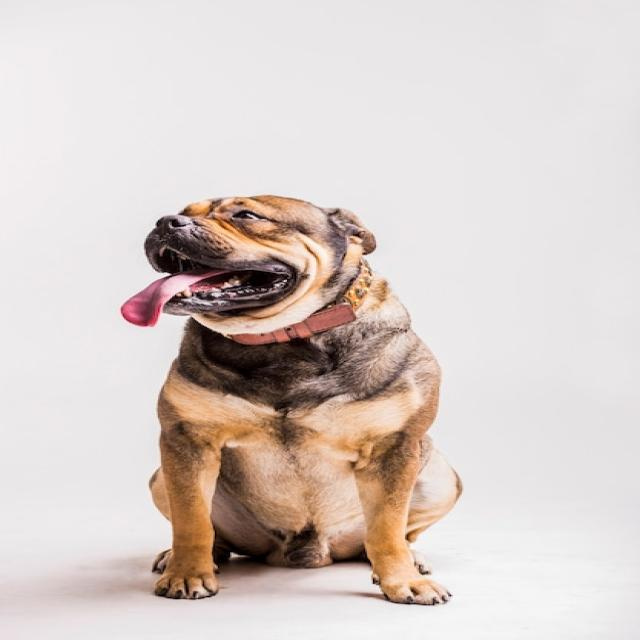Dog: (123, 195, 464, 604)
